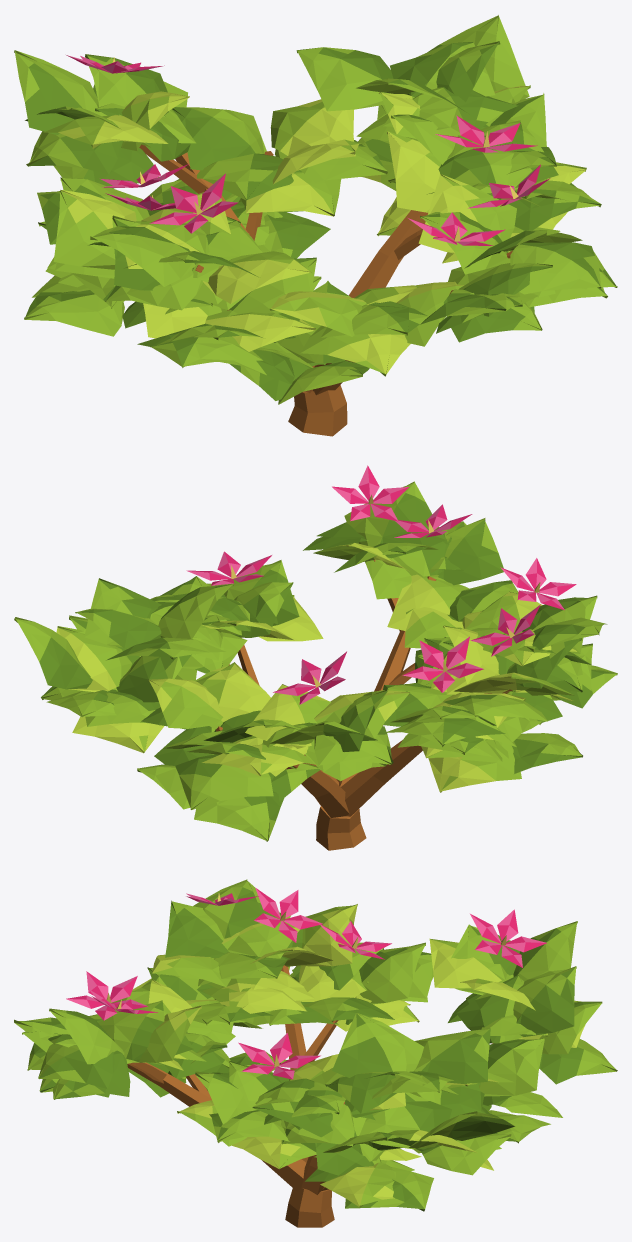
The model's file is nmg_shrub_flor.glb.
3 renders of one model, top to bottom at view 1: azimuth 30°, elevation 25°; view 2: azimuth 150°, elevation 25°; view 3: azimuth 270°, elevation 25°, orthographic. The views are drawn at different scales.
Visible parts, largest first — view 1: nmg_shrub_flor; view 2: nmg_shrub_flor; view 3: nmg_shrub_flor.
Part boxes in pixels (x1=…): nmg_shrub_flor: x1=14, y1=15, x2=617, y2=436; nmg_shrub_flor: x1=14, y1=465, x2=617, y2=850; nmg_shrub_flor: x1=14, y1=879, x2=617, y2=1227.
Bounding box in the file's own units: 1.82 × 0.948 × 1.95.
